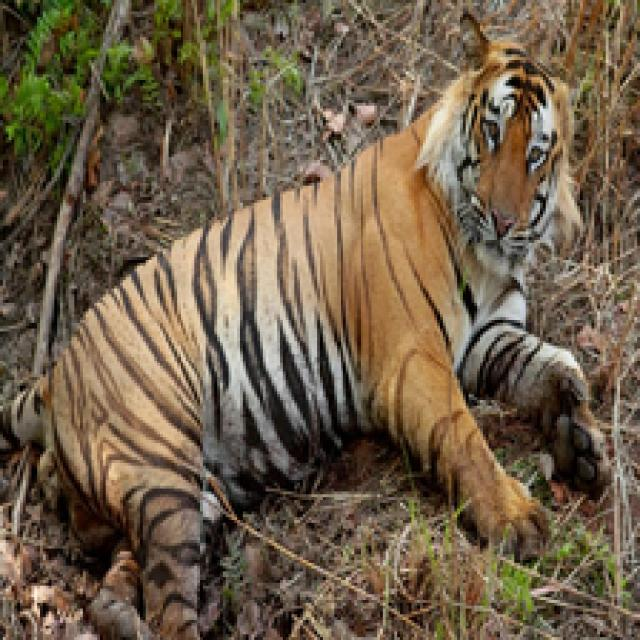tiger: (31, 15, 624, 629)
